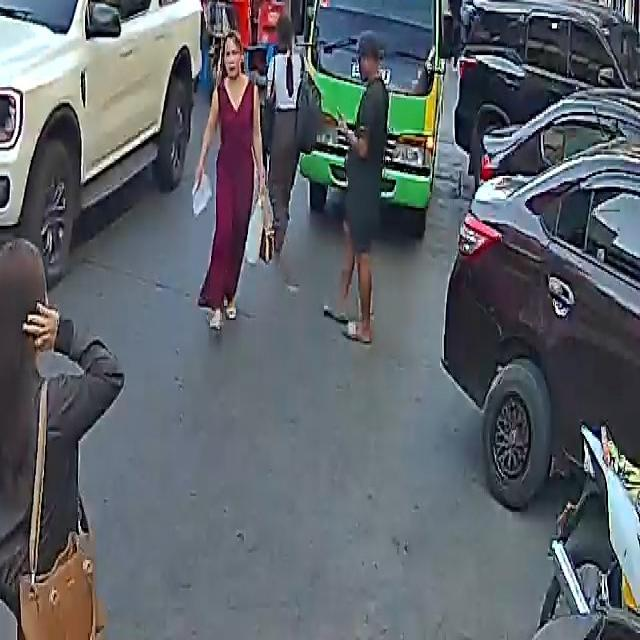car: (443, 48, 640, 533), (0, 0, 212, 279), (451, 0, 639, 183)
